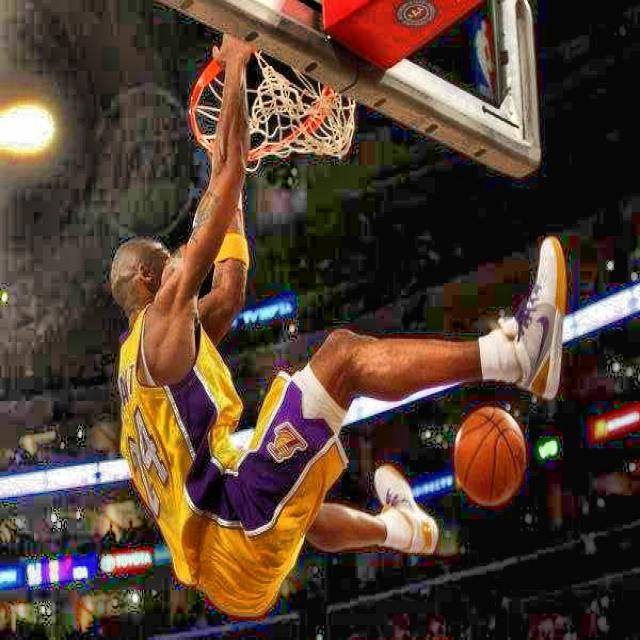board: (453, 406, 527, 508)
